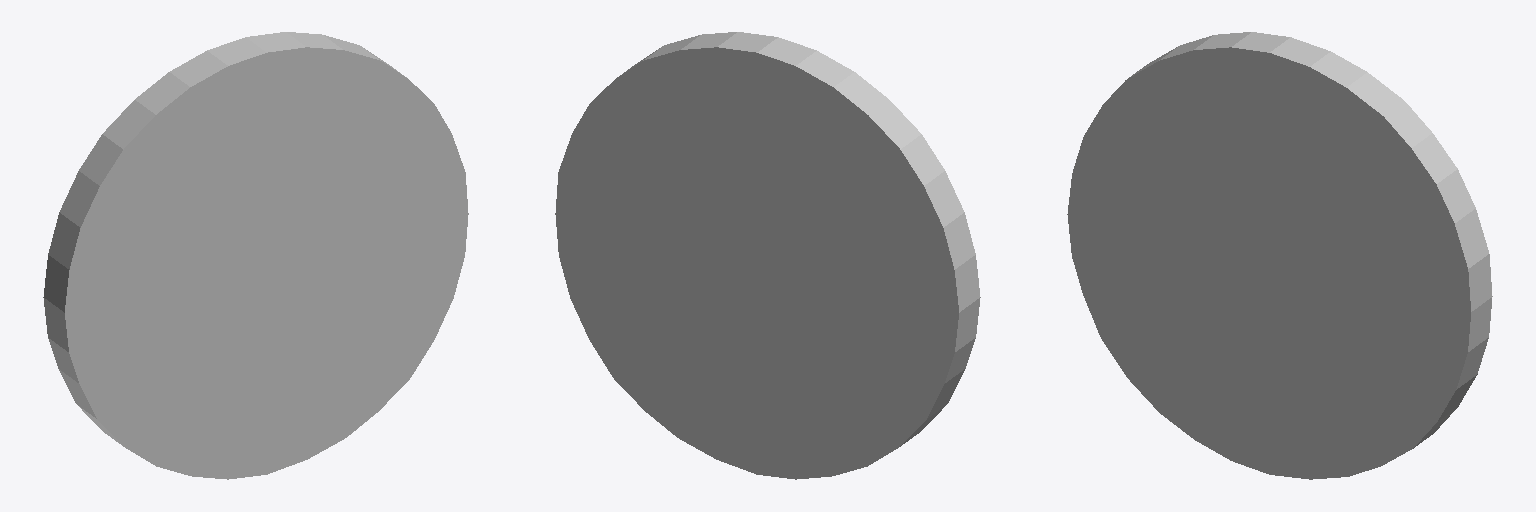
File: dart_board8.obj
3 views of the same model, side by side, from view 1: azimuth 30°, elevation 25°; view 2: azimuth 150°, elevation 25°; view 3: azimuth 330°, elevation 25° (orthographic).
Parts seen in each view (by area): view 1: Cube; view 2: Cube; view 3: Cube.
Part boxes in pixels (x1,y1,x2,y2): Cube: (43,32,468,479); Cube: (555,32,980,479); Cube: (1067,32,1492,479).
Bounding box in the file's own units: 19.75 × 19.72 × 1.8.